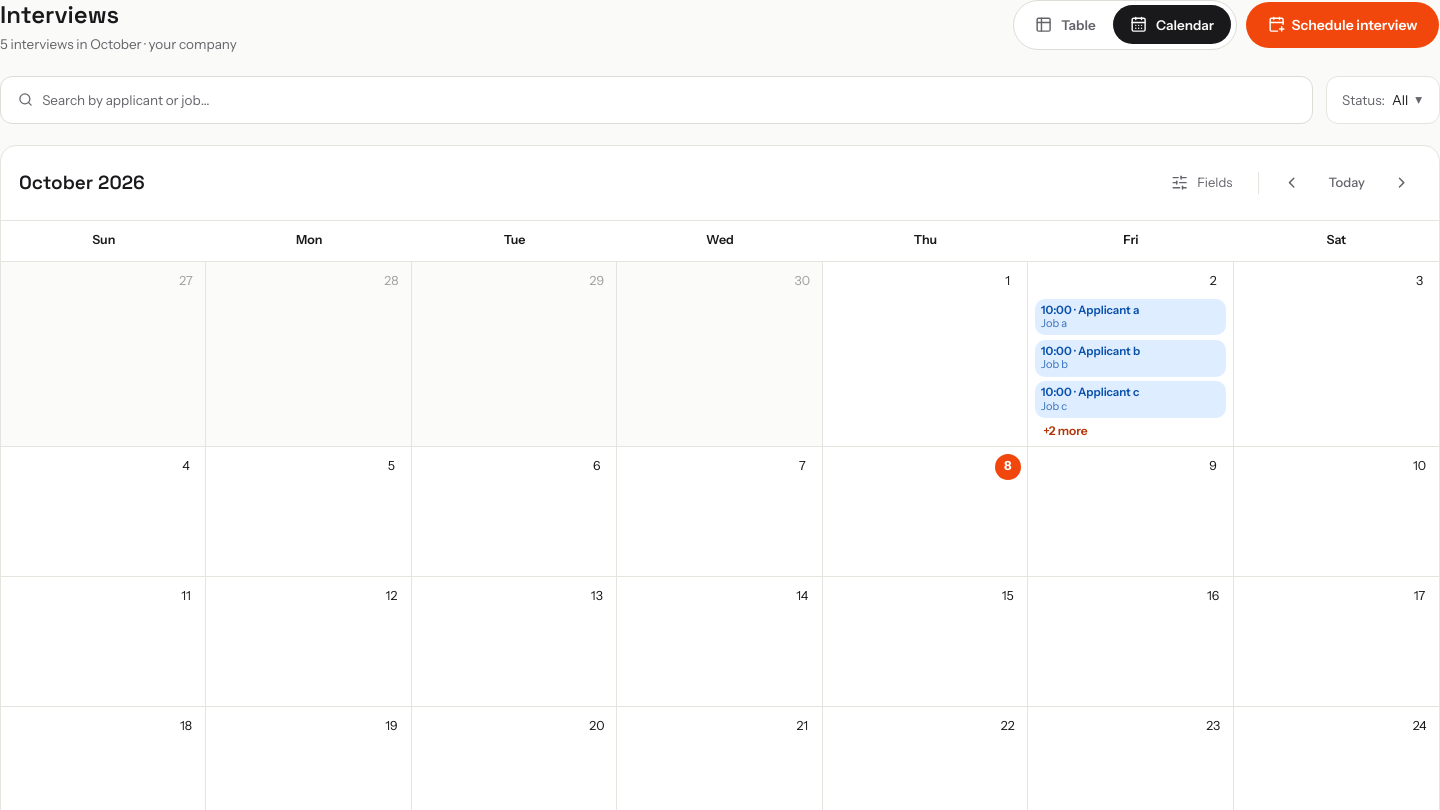
Test case: Opening the Schedule interview dialog › does not offer to schedule on a day that has gone by from the '+N more' dialog
Click the button "+2 more" at [1065, 431], box [1035,422,1096,440]
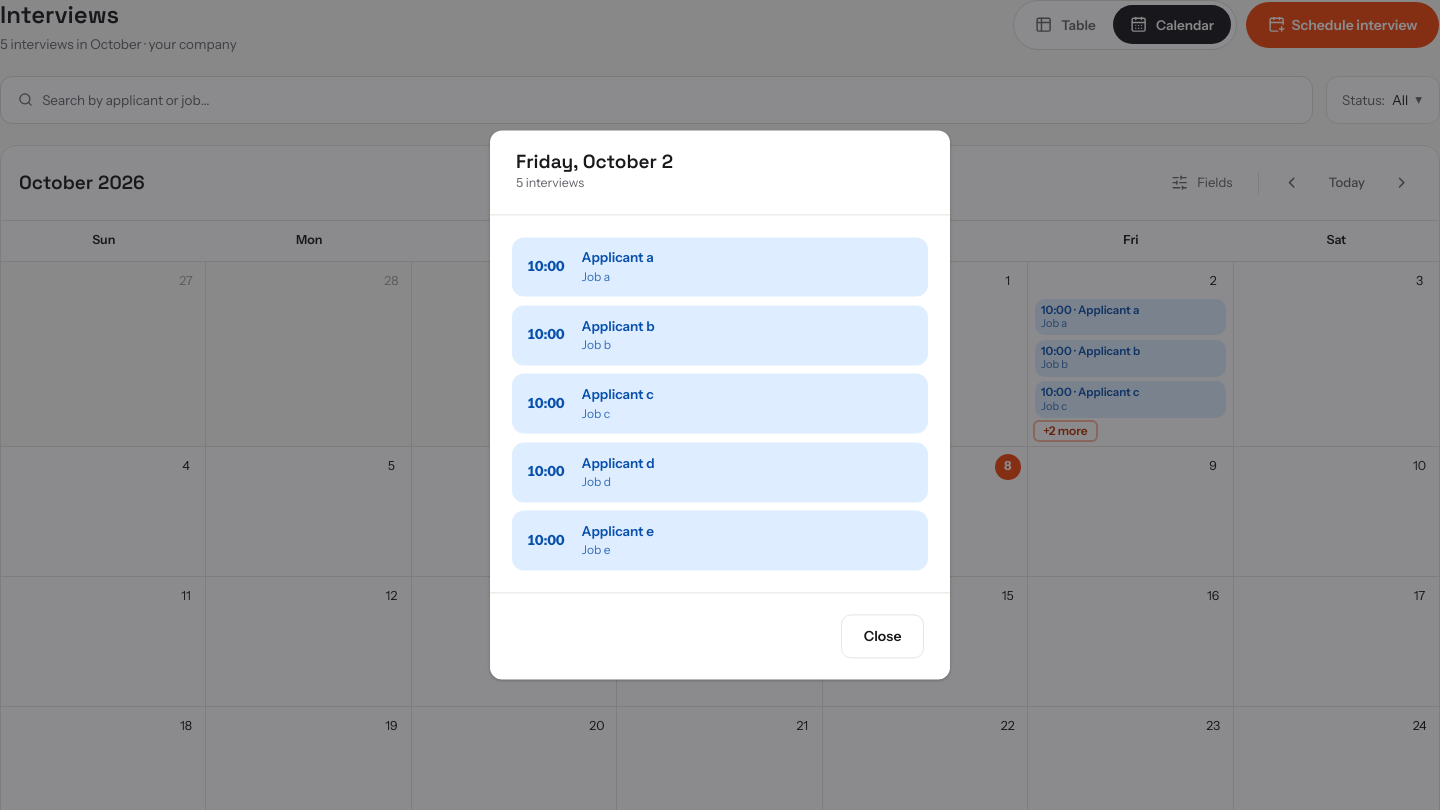
Result: the text "5 interviews" is shown at [516,175,584,190]
